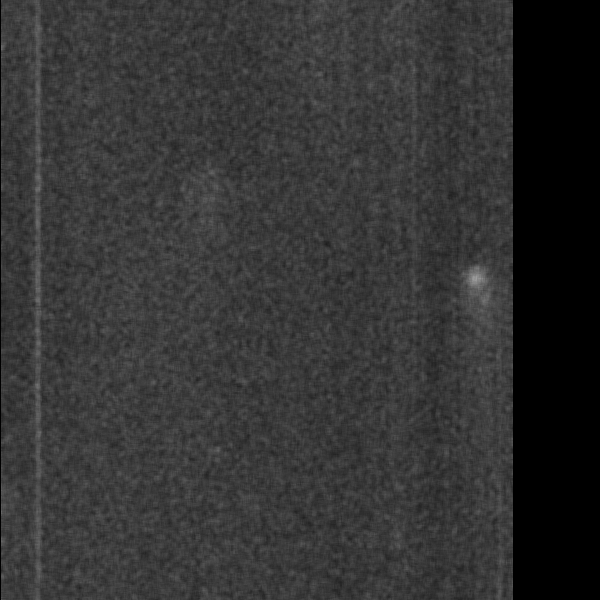spark: (460, 263, 494, 333)
